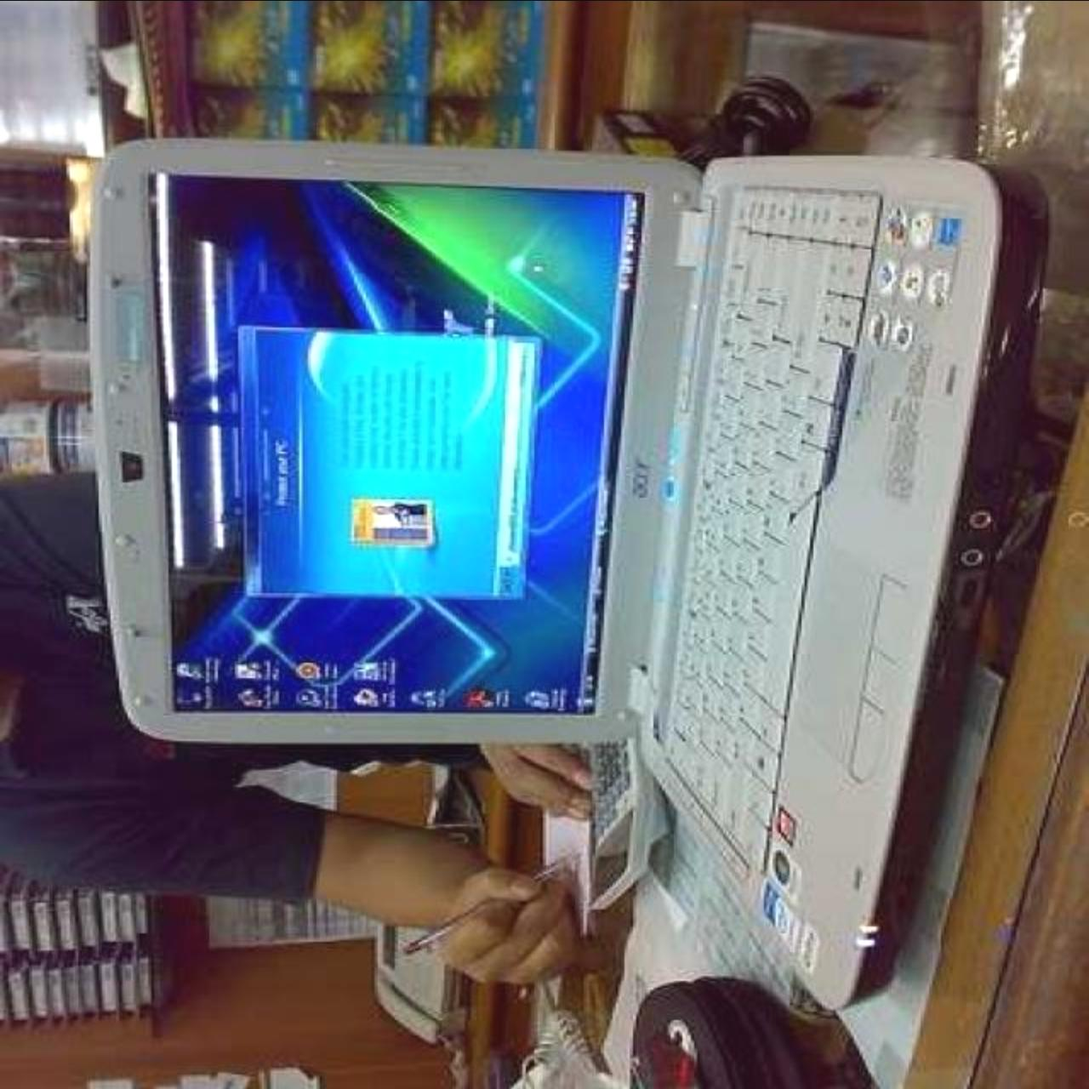laptop: (81, 55, 1069, 966)
